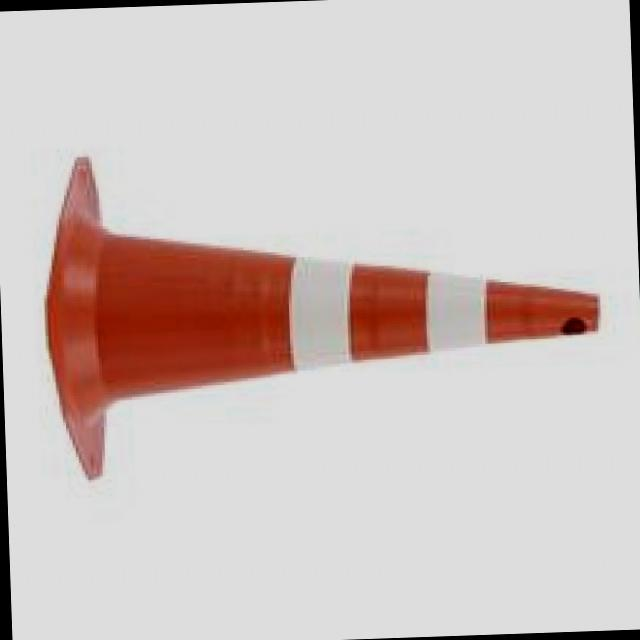cone: (23, 135, 611, 488)
